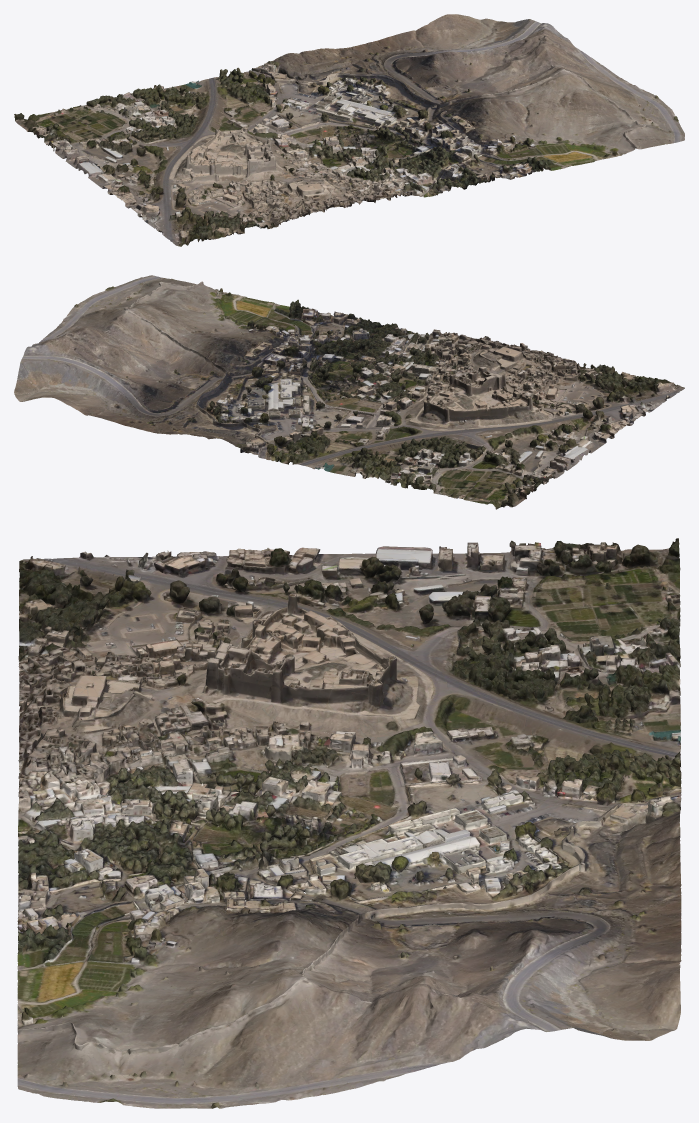
The picture shows the model from 3 angles, top to bottom: view 1: azimuth 30°, elevation 25°; view 2: azimuth 150°, elevation 25°; view 3: azimuth 270°, elevation 25°; orthographic projection. The views are drawn at different scales.
Visible parts, largest first — view 1: OMN_001_M2_BahlaFortAerial; view 2: OMN_001_M2_BahlaFortAerial; view 3: OMN_001_M2_BahlaFortAerial.
Part boxes in pixels (x1,y1,x2,y2): OMN_001_M2_BahlaFortAerial: (14, 14, 684, 246); OMN_001_M2_BahlaFortAerial: (14, 275, 684, 509); OMN_001_M2_BahlaFortAerial: (17, 538, 681, 1108).
Size of the model in its own units: 799 by 56.26 by 433.
1 material, 1 textured.
